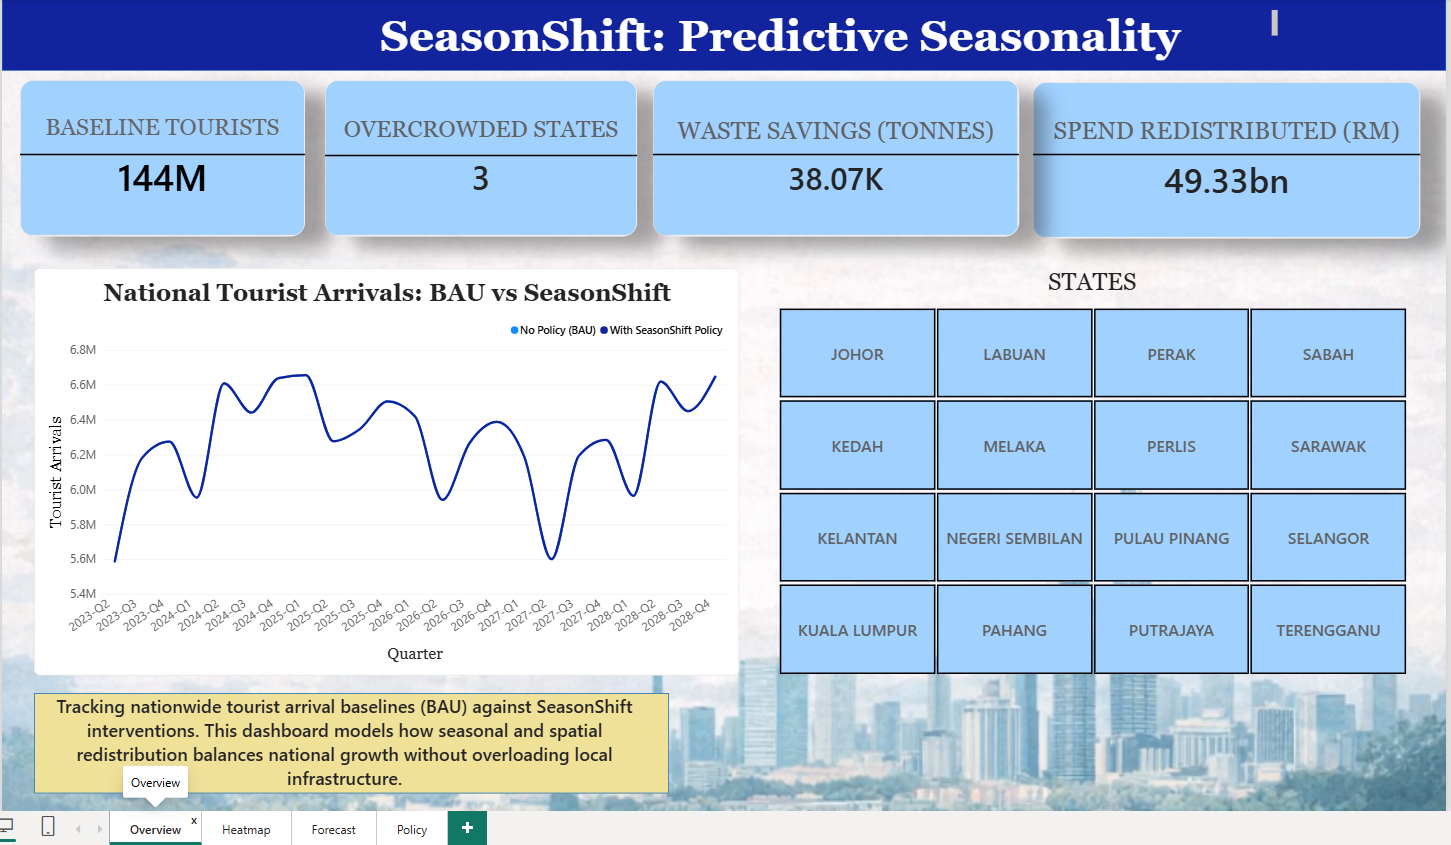

What the dashboard file says about the page in this screenshot:
{"tool":"powerbi","page":{"name":"Overview","canvas":[1920,1080],"ordinal":0},"visuals":[{"type":"cardVisual","fields":{"Data":["Fact_Policy.Total Tourists BAU"]},"box":[23.9,107.4,379.4,207.6],"z":0},{"type":"cardVisual","fields":{"Data":["Fact_Historical_TPI.Peak States Count"]},"box":[429.5,107.4,415.1,207.6],"z":1000},{"type":"cardVisual","fields":{"Data":["Fact_Policy.Spend Shifted MYR"]},"box":[1371.9,109.8,515.4,207.6],"z":2000},{"type":"cardVisual","fields":{"Data":["Fact_Policy.Waste Shifted Tonnes"]},"box":[866.1,107.4,486.7,207.6],"z":3000},{"type":"lineChart","title":"National Tourist Arrivals: BAU vs SeasonShift","fields":{"Category":["Dim_Calendar.quarter_label"],"Y":["Fact_Policy.BAU Arrivals Trend","Fact_Policy.Policy Arrivals Trend"]},"box":[42.9,357.9,937.7,541.6],"z":4000},{"type":"slicer","title":"STATES","fields":{"Values":["Fact_Policy.state"]},"box":[1014,357.9,873.2,541.6],"z":5000},{"type":"shape","title":"cccccc","box":[0,0,1920.7,95.4],"z":6000},{"type":"textbox","box":[0,208,316,150],"z":7000},{"type":"textbox","box":[381.7,14.3,1314.6,66.8],"z":8000},{"type":"shape","box":[23.9,131.2,379.4,150.3],"z":9000},{"type":"shape","box":[429.5,133.6,415.1,150.3],"z":10000},{"type":"shape","box":[866.1,131.2,486.7,150.3],"z":11000},{"type":"shape","box":[1371.9,131.2,515.4,150.3],"z":12000},{"type":"shape","title":"hh","box":[42.9,923.3,844.6,133.6],"z":12001},{"type":"textbox","box":[69.2,923.3,773,157.5],"z":12002}]}

Visuals, with their boxes on the page's 1920x1080 design canvas (x1, y1, x2, y2). These are canvas units, not pixel positions in the 1451x845 screenshot, which may show the page scaled, cropped or inside an application window:
cardVisual - Fact_Policy.Total Tourists BAU: {"x1": 24, "y1": 107, "x2": 403, "y2": 315}
cardVisual - Fact_Historical_TPI.Peak States Count: {"x1": 430, "y1": 107, "x2": 845, "y2": 315}
cardVisual - Fact_Policy.Spend Shifted MYR: {"x1": 1372, "y1": 110, "x2": 1887, "y2": 317}
cardVisual - Fact_Policy.Waste Shifted Tonnes: {"x1": 866, "y1": 107, "x2": 1353, "y2": 315}
"National Tourist Arrivals: BAU vs SeasonShift" lineChart: {"x1": 43, "y1": 358, "x2": 981, "y2": 900}
"STATES" slicer: {"x1": 1014, "y1": 358, "x2": 1887, "y2": 900}
"cccccc" shape: {"x1": 0, "y1": 0, "x2": 1921, "y2": 95}
textbox: {"x1": 0, "y1": 208, "x2": 316, "y2": 358}
textbox: {"x1": 382, "y1": 14, "x2": 1696, "y2": 81}
shape: {"x1": 24, "y1": 131, "x2": 403, "y2": 282}
shape: {"x1": 430, "y1": 134, "x2": 845, "y2": 284}
shape: {"x1": 866, "y1": 131, "x2": 1353, "y2": 282}
shape: {"x1": 1372, "y1": 131, "x2": 1887, "y2": 282}
"hh" shape: {"x1": 43, "y1": 923, "x2": 888, "y2": 1057}
textbox: {"x1": 69, "y1": 923, "x2": 842, "y2": 1081}
